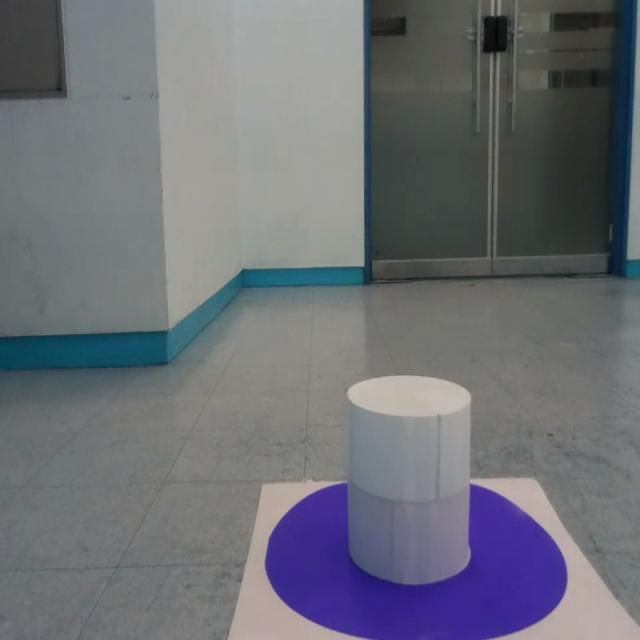cylinder: (346, 374, 473, 584)
